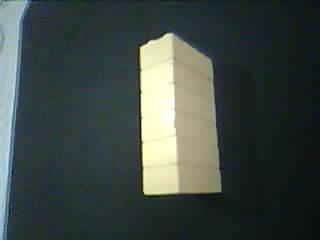lego: (138, 31, 222, 195)
